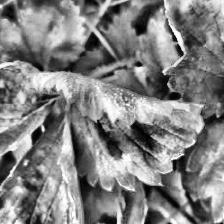Powdery Mildew Leaf: (28, 71, 203, 191), (0, 107, 90, 224), (159, 0, 224, 118)
